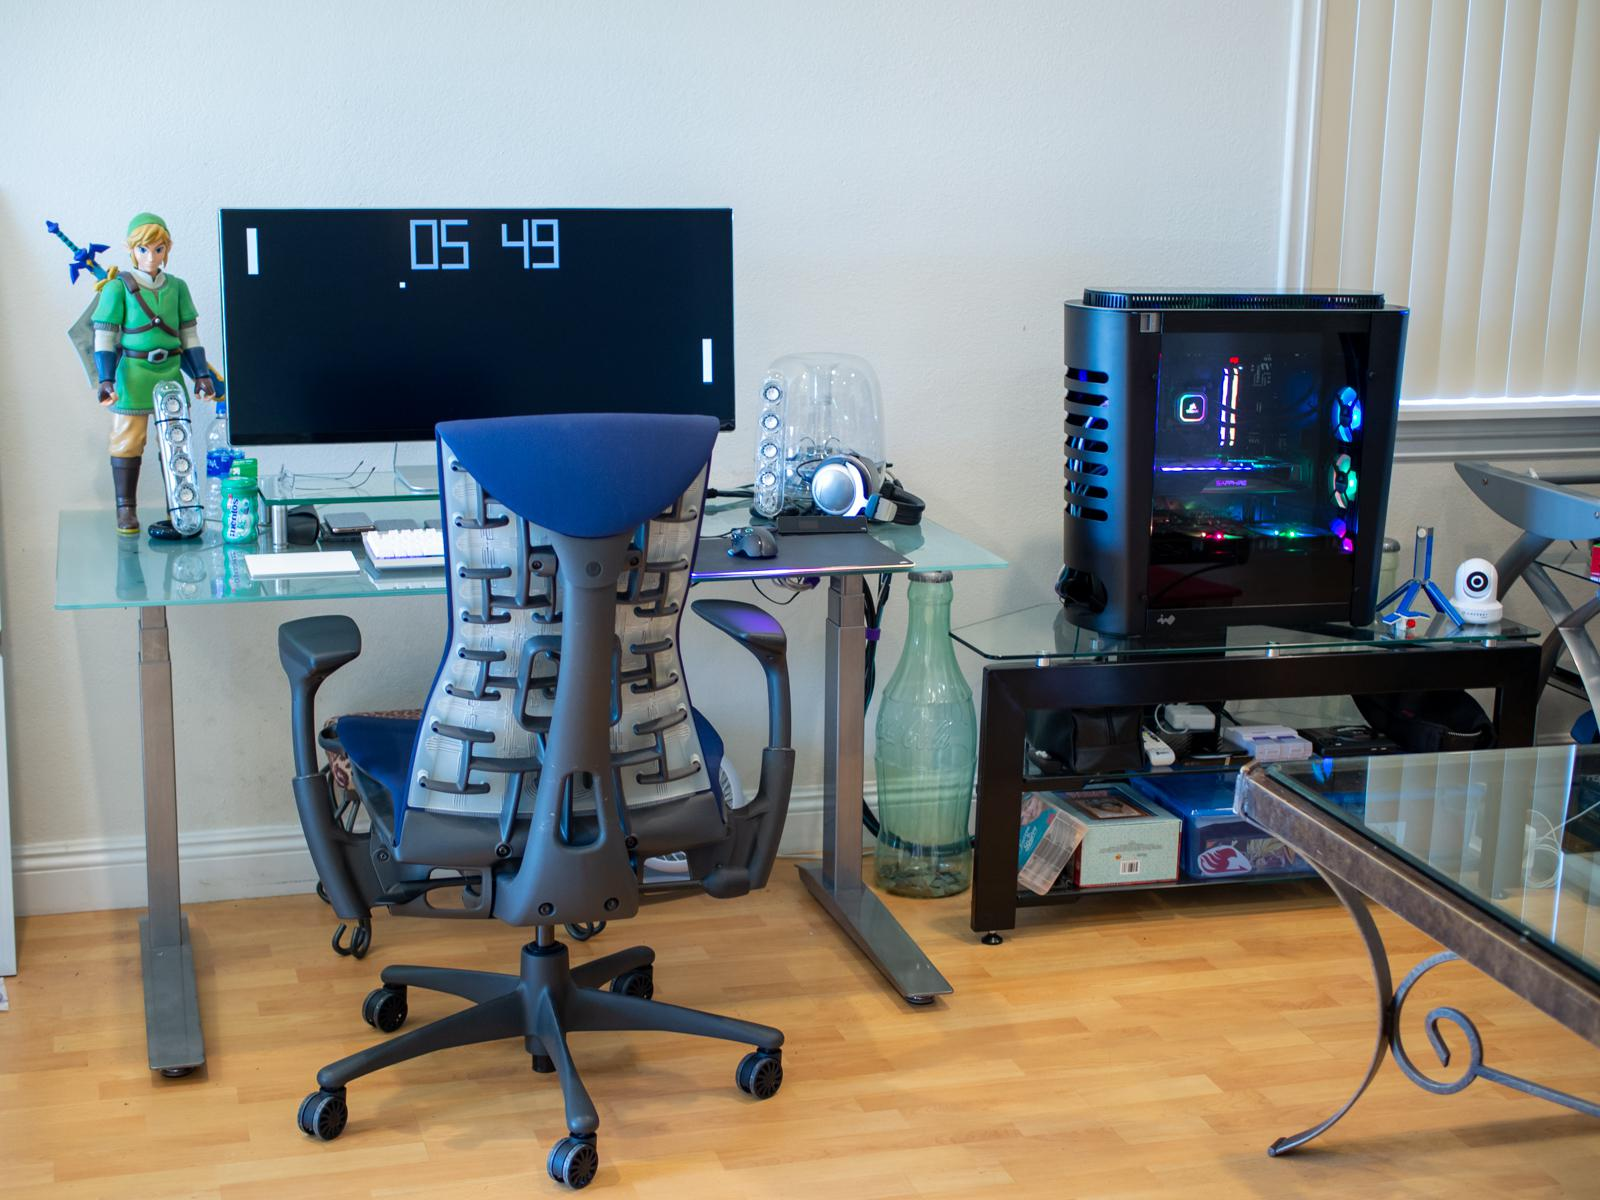Chair (Gaming): (278, 410, 797, 1191)
Decoration (Generic): (42, 205, 226, 546), (1387, 521, 1471, 642)
Desk (Standing): (52, 482, 1012, 1082)
Desktop (Generic): (1058, 290, 1411, 645)
External Speakers (Generic): (142, 377, 212, 541), (750, 369, 791, 519)
Headphones: (803, 454, 929, 526)
Keyboard (Generic): (360, 529, 454, 577)
Monitor (Landscape): (218, 205, 740, 450)
Mouse (Gaming): (724, 524, 777, 561)
Mousepad (Generic): (682, 529, 916, 576)
Water Bottle: (202, 402, 242, 533)
